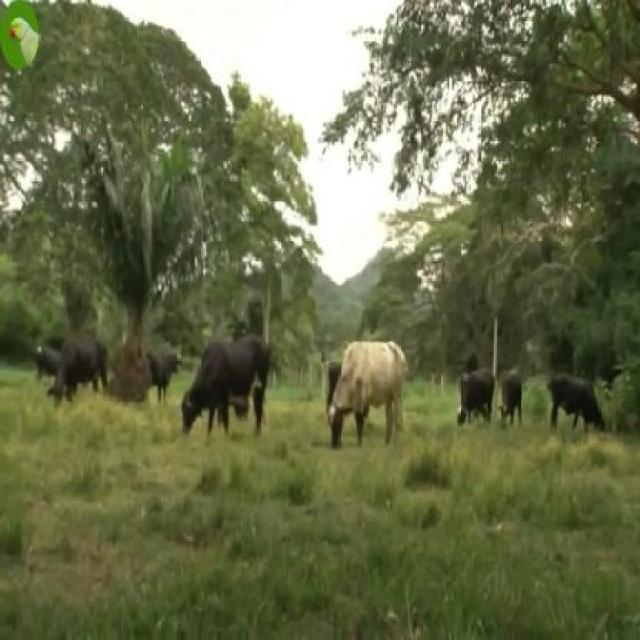Cow: (180, 335, 269, 437), (328, 341, 406, 454), (548, 372, 606, 442)
